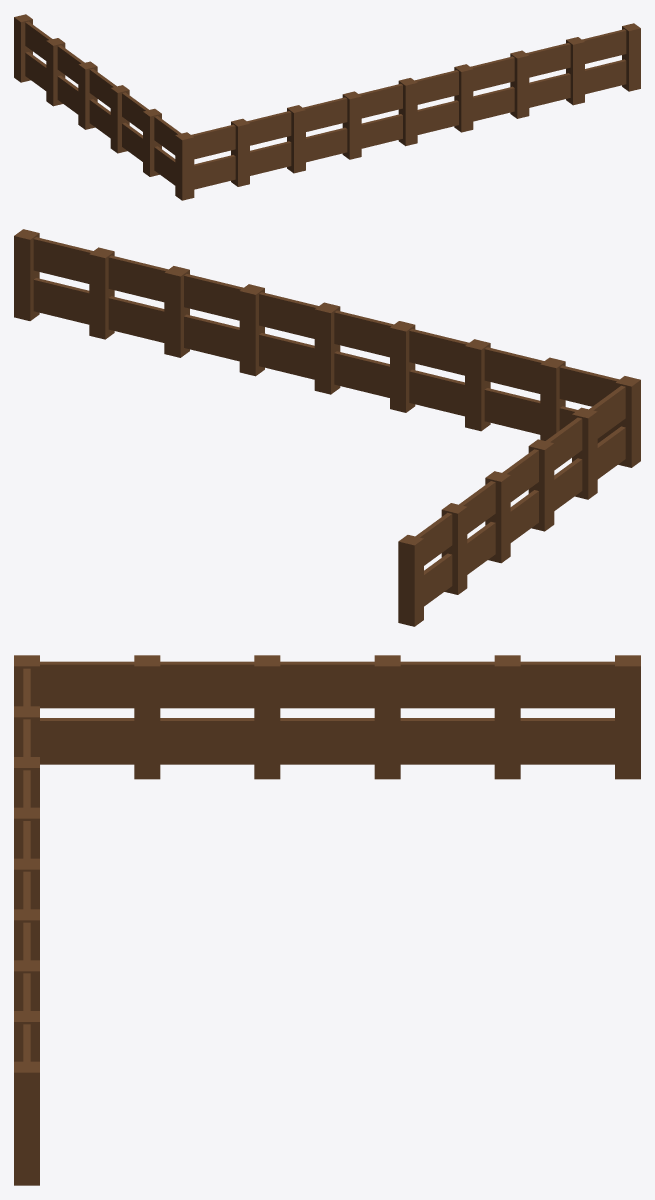
File: Railing.fbx
3 views of the same model, one above another, from view 1: azimuth 30°, elevation 25°; view 2: azimuth 150°, elevation 25°; view 3: azimuth 270°, elevation 25° (orthographic). The views are drawn at different scales.
Parts seen in each view (by area): view 1: Geländer; view 2: Geländer; view 3: Geländer.
Part boxes in pixels (x1,y1,x2,y2): Geländer: (14, 14, 640, 200); Geländer: (14, 229, 640, 626); Geländer: (14, 655, 640, 1185).
Bounding box in the file's own units: 522 × 822 × 104.
